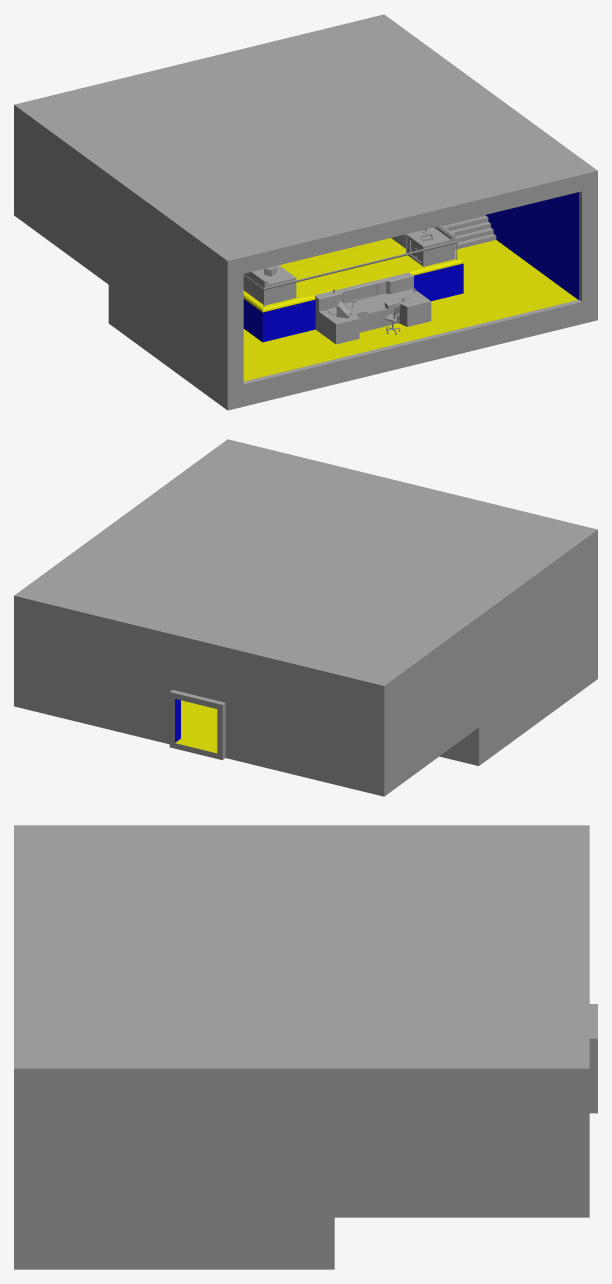
Rendered from Control Room v3.fbx.
3 views of the same model, one above another, from view 1: azimuth 30°, elevation 25°; view 2: azimuth 150°, elevation 25°; view 3: azimuth 270°, elevation 25° (orthographic). The views are drawn at different scales.
Visible parts, largest first — view 1: Control_Room_v1, EnergyMonitorDesk, TaskMapDesk, PlayerMapDesk, Stairs1, Railing; view 2: Control_Room_v1; view 3: Control_Room_v1.
Boxes of the visible parts, x1=… form: Control_Room_v1: x1=14, y1=14, x2=597, y2=410; EnergyMonitorDesk: x1=314, y1=272, x2=431, y2=344; TaskMapDesk: x1=391, y1=225, x2=455, y2=266; PlayerMapDesk: x1=243, y1=265, x2=296, y2=305; Stairs1: x1=443, y1=215, x2=496, y2=249; Railing: x1=243, y1=239, x2=458, y2=289; Control_Room_v1: x1=14, y1=439, x2=597, y2=796; Control_Room_v1: x1=14, y1=825, x2=597, y2=1269.
Size of what is drawn, in the model's own units: 0.35 by 0.135 by 0.355.
